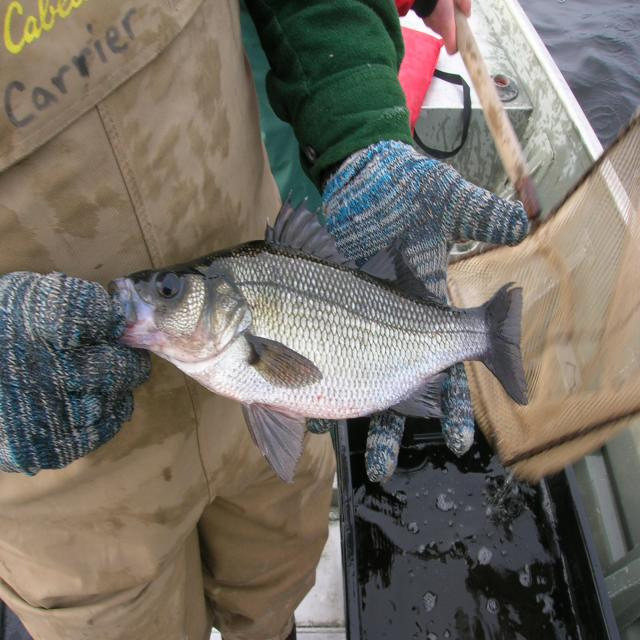Perch - White: (111, 242, 526, 481)
